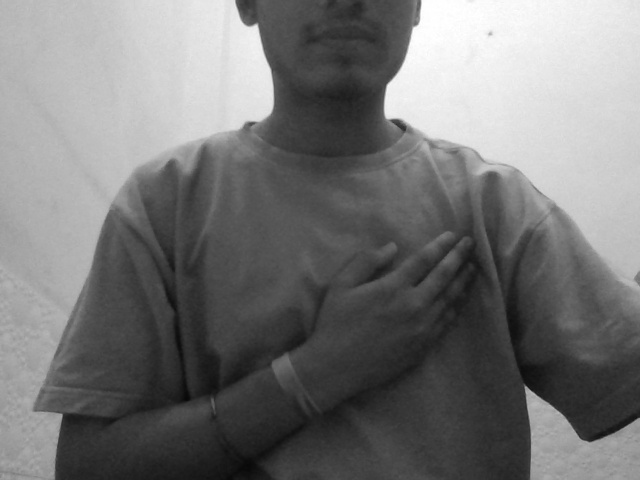Sorry: (276, 222, 524, 402)
